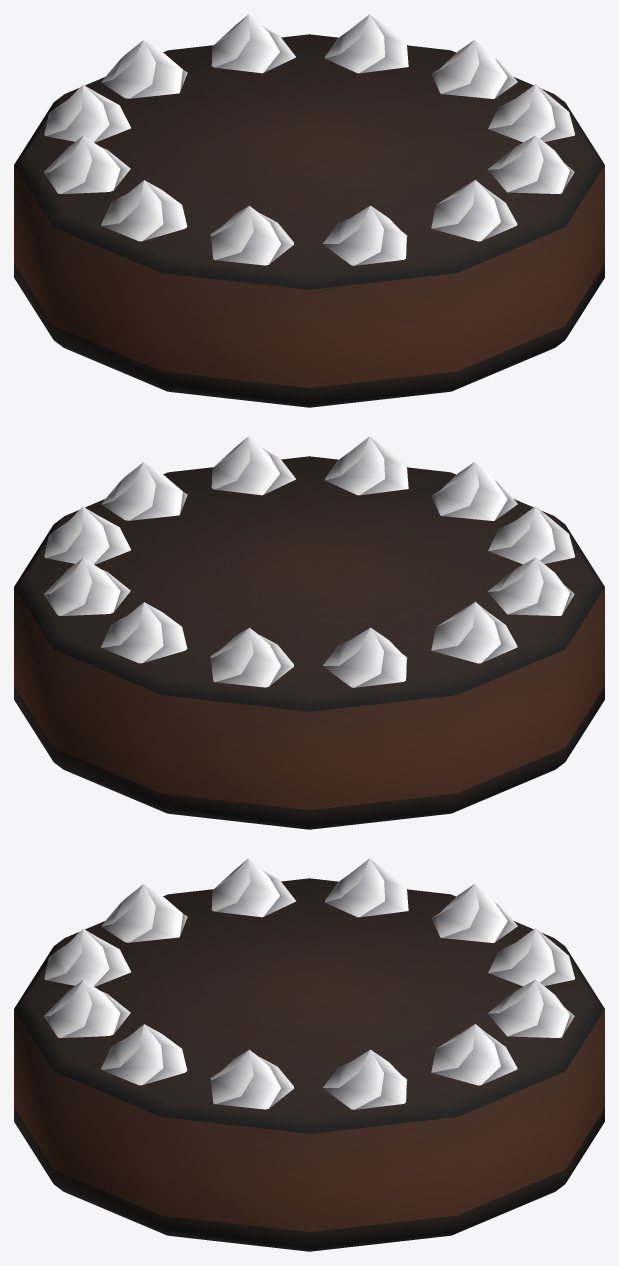
Rendered from m_ChocolateCheeseCake01.fbx.
The picture shows the model from 3 angles, top to bottom: view 1: azimuth 30°, elevation 25°; view 2: azimuth 150°, elevation 25°; view 3: azimuth 270°, elevation 25°; orthographic projection.
Parts seen in each view (by area): view 1: m_ChocolateCheeseCake01; view 2: m_ChocolateCheeseCake01; view 3: m_ChocolateCheeseCake01.
Boxes of the visible parts, x1,y1,x2,y2 form: m_ChocolateCheeseCake01: [14, 14, 604, 407]; m_ChocolateCheeseCake01: [14, 436, 604, 829]; m_ChocolateCheeseCake01: [14, 858, 604, 1251].
Bounding box in the file's own units: 28 × 9.3 × 28.
